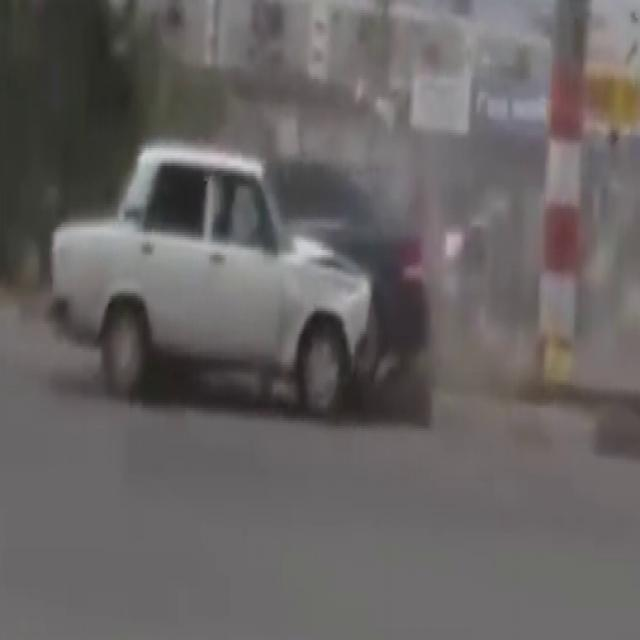accident: (33, 115, 375, 428)
